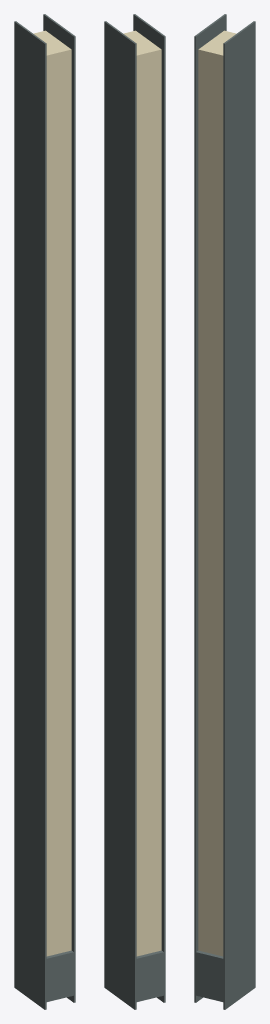
The model's file is LP_Toilet_WestFrontLeft.fbx.
3 renders of one model, left to right at view 1: azimuth 30°, elevation 25°; view 2: azimuth 210°, elevation 25°; view 3: azimuth 330°, elevation 25°, orthographic.
Parts seen in each view (by area): view 1: M_Museum_BrushedMetal, WarmIvory; view 2: M_Museum_BrushedMetal, WarmIvory; view 3: M_Museum_BrushedMetal, WarmIvory.
Part boxes in pixels (bbox=[...]): M_Museum_BrushedMetal: bbox=[14, 14, 75, 1009]; WarmIvory: bbox=[33, 30, 71, 956]; M_Museum_BrushedMetal: bbox=[104, 14, 165, 1009]; WarmIvory: bbox=[123, 30, 161, 956]; M_Museum_BrushedMetal: bbox=[194, 14, 255, 1009]; WarmIvory: bbox=[198, 30, 236, 956].
Bounding box in the file's own units: 7 × 210 × 12.
